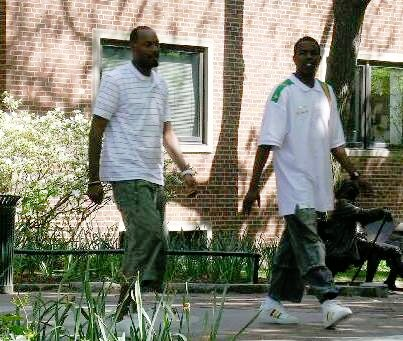person: (245, 34, 367, 326), (85, 23, 200, 312)
